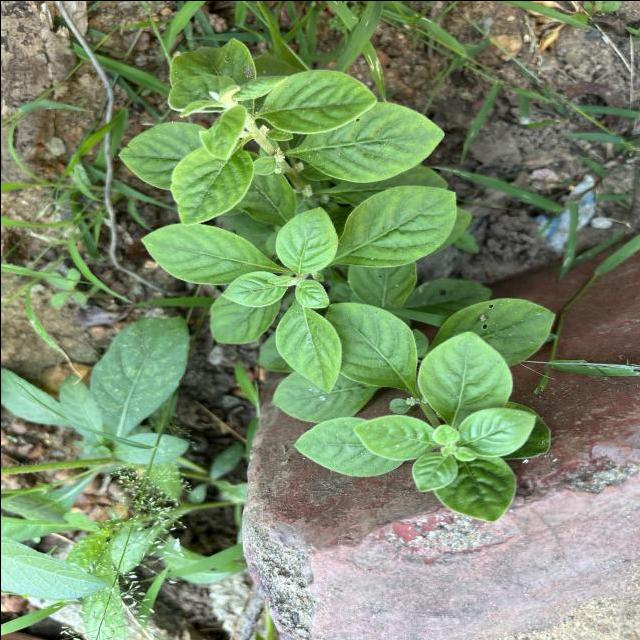Aerva lanata: (291, 99, 446, 184), (336, 183, 460, 268), (321, 299, 419, 392), (288, 414, 409, 478), (272, 297, 344, 395), (271, 204, 341, 276)
